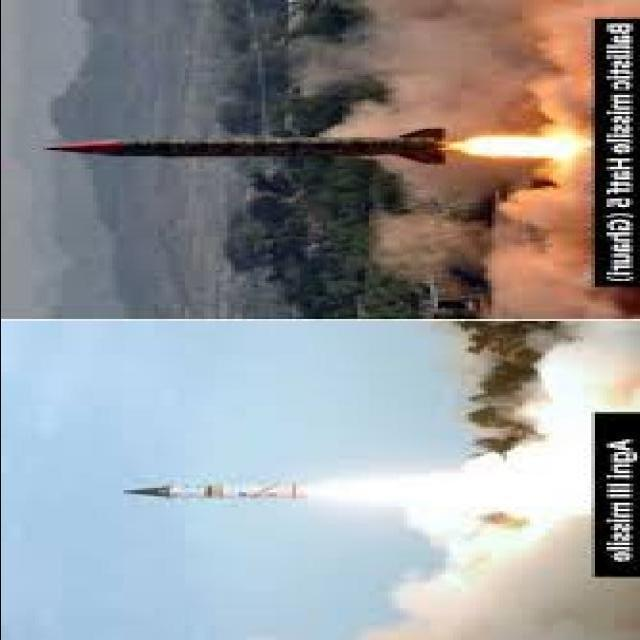Missile: (21, 125, 448, 172), (101, 479, 307, 511)
